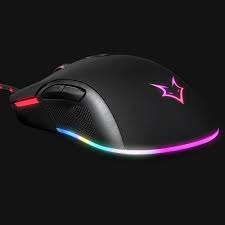mouse: (5, 47, 221, 163)
